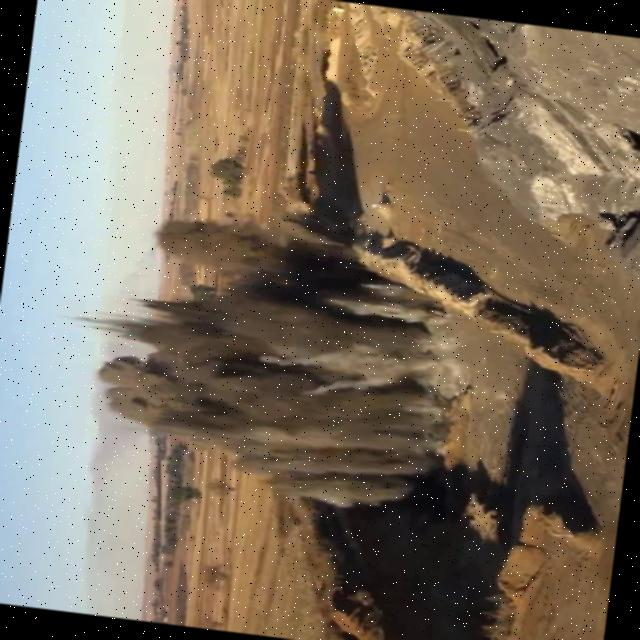explosion: (52, 190, 554, 558)
